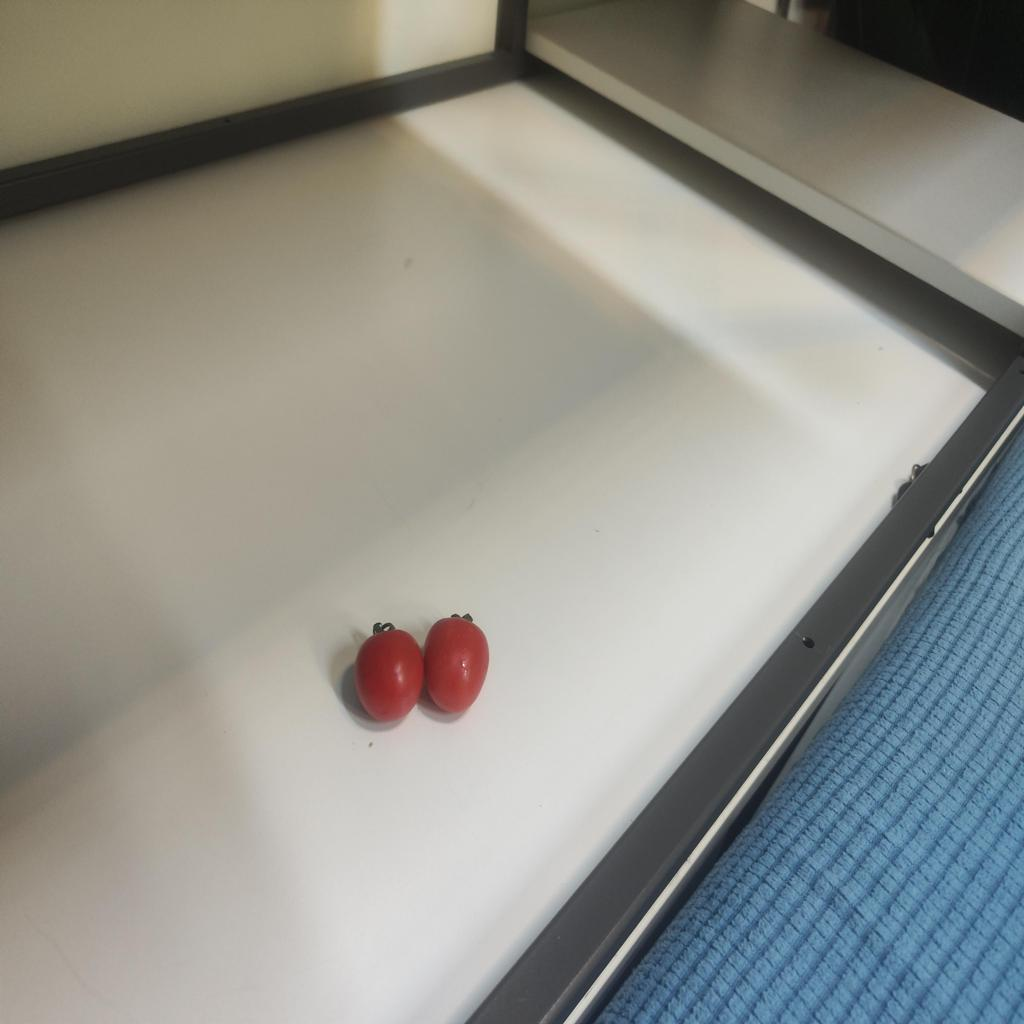tomato: (347, 621, 422, 720), (421, 611, 490, 711)
